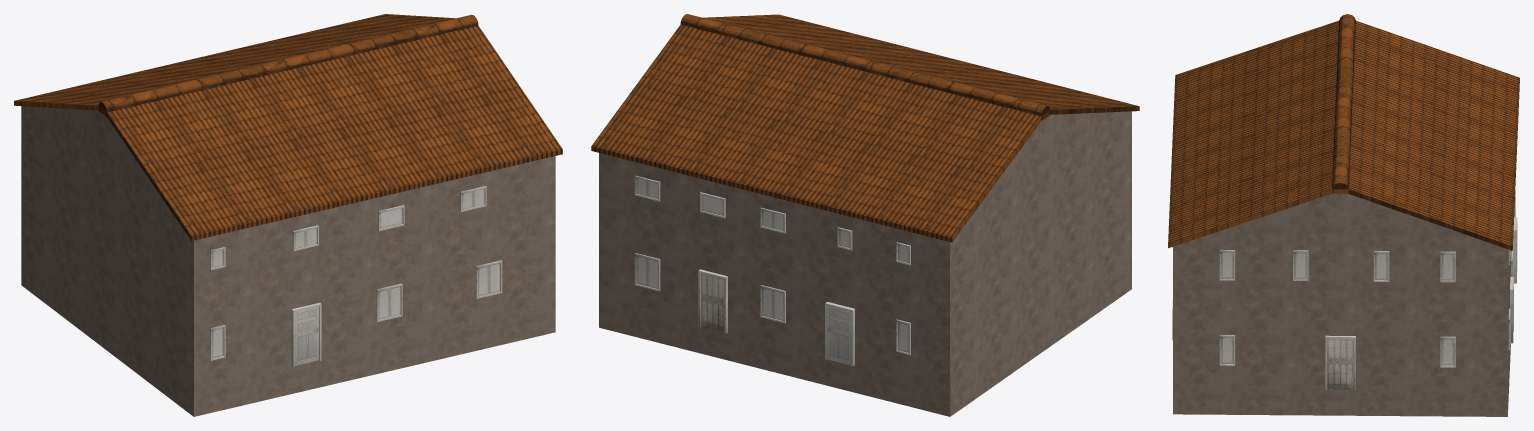
File: Casa_20.fbx
3 views of the same model, side by side, from view 1: azimuth 30°, elevation 25°; view 2: azimuth 150°, elevation 25°; view 3: azimuth 270°, elevation 25° (orthographic). The views are drawn at different scales.
Visible parts, largest first — view 1: Casa_20; view 2: Casa_20; view 3: Casa_20.
Boxes of the visible parts, x1=… form: Casa_20: x1=14, y1=14, x2=562, y2=416; Casa_20: x1=591, y1=14, x2=1139, y2=416; Casa_20: x1=1168, y1=14, x2=1519, y2=416.
Size of the model in its own units: 13.82 by 8.84 by 11.99.
